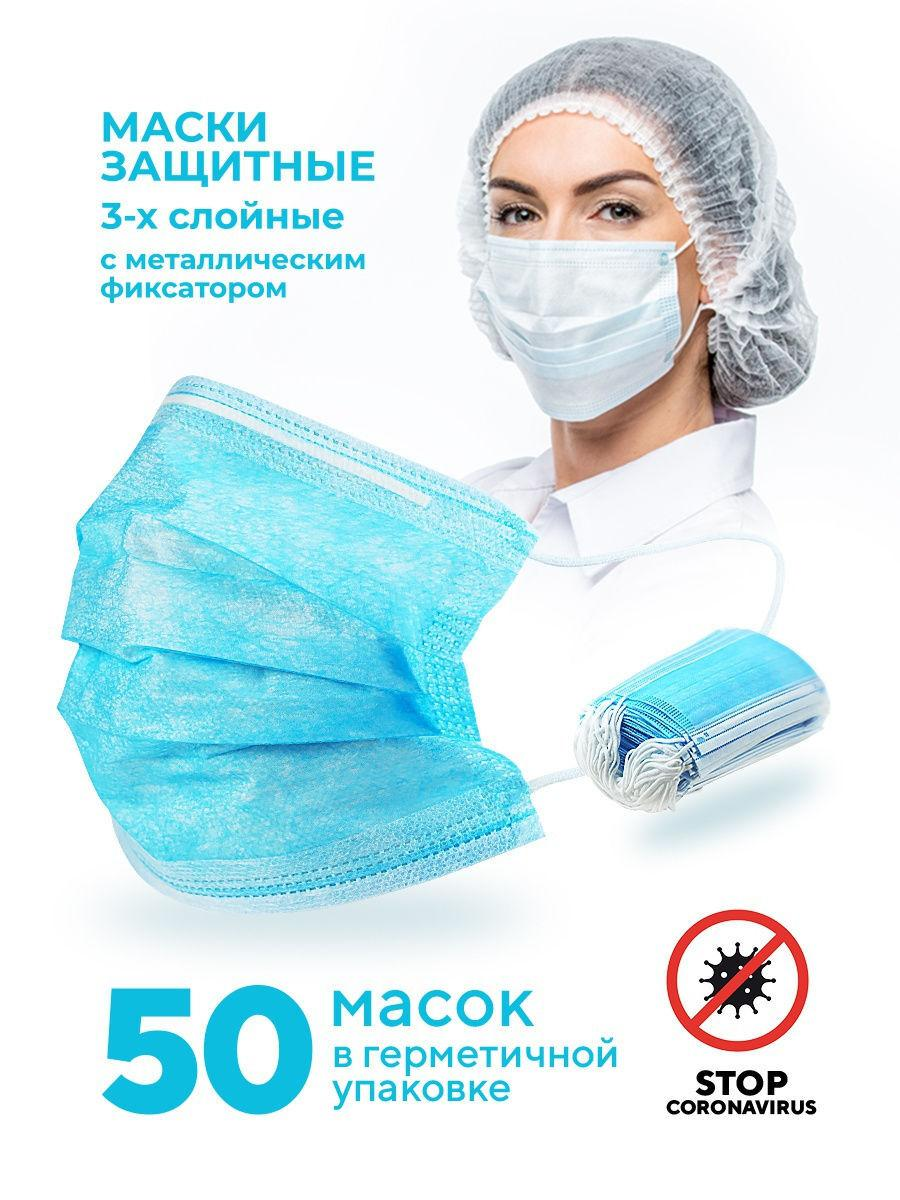hairnet: (434, 31, 866, 407)
mask: (424, 198, 702, 449)
